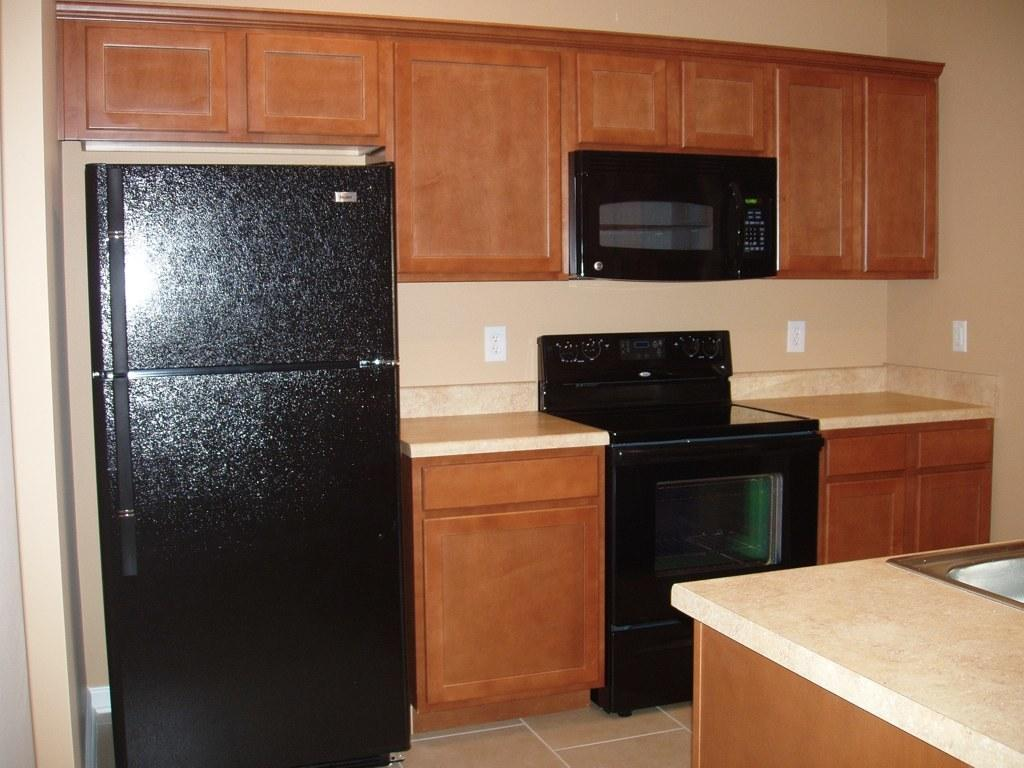cabinet_door: (388, 37, 561, 274), (425, 515, 604, 690), (766, 67, 868, 276), (862, 74, 946, 274), (247, 31, 387, 141), (90, 24, 226, 134), (572, 38, 678, 148), (674, 56, 774, 154), (818, 488, 904, 566), (918, 474, 986, 552)
handle: (102, 379, 150, 577), (96, 154, 138, 366)
